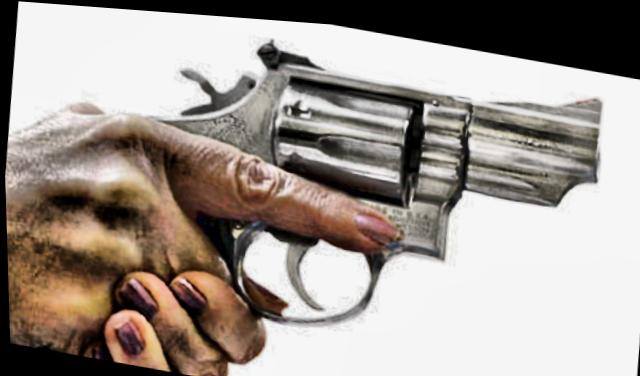pistol: (107, 9, 613, 369)
